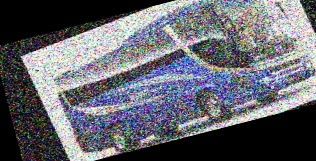bus: (31, 0, 316, 161)
